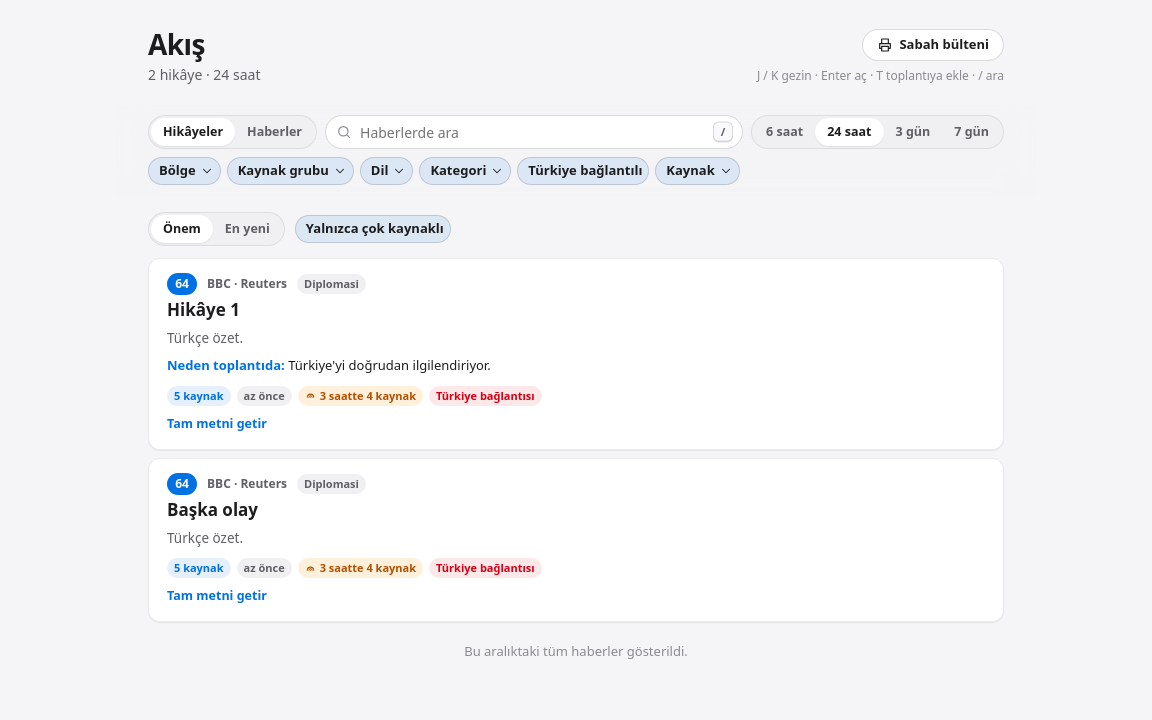
Test case: Story detail › merges another story into this one
Click the button "Hikâye 1" at (203, 311), box [167, 299, 240, 322]
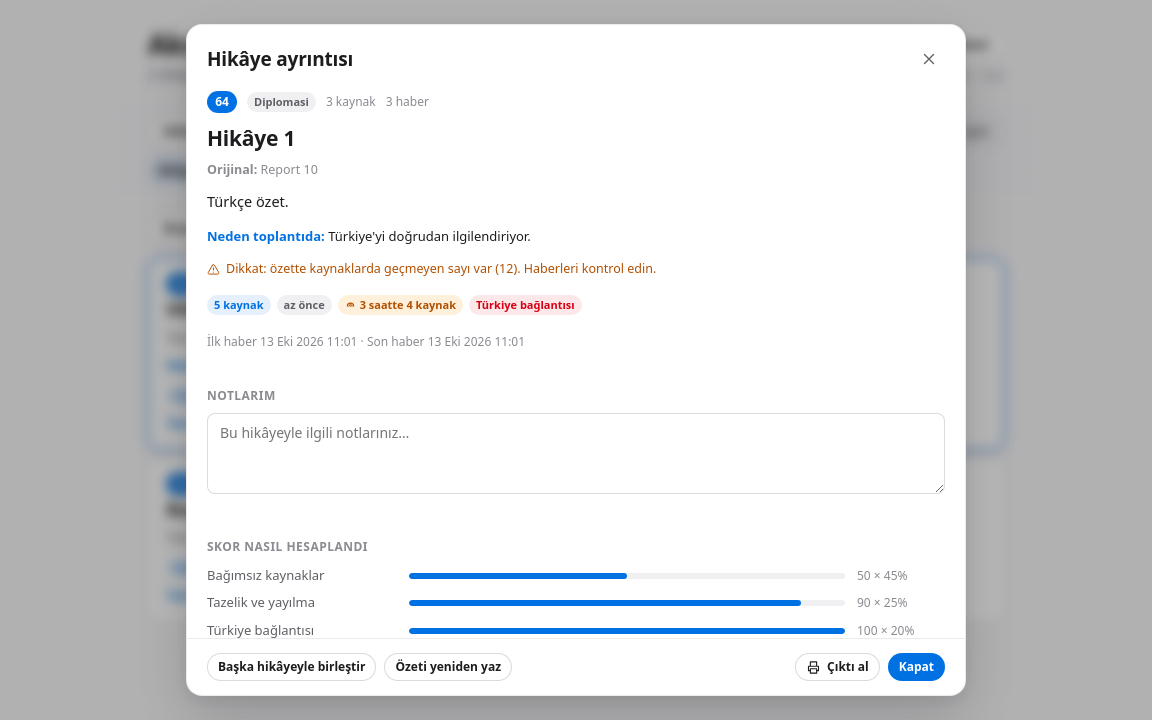
Click the button "Başka hikâyeyle birleştir" at (292, 667), box [207, 653, 376, 681]
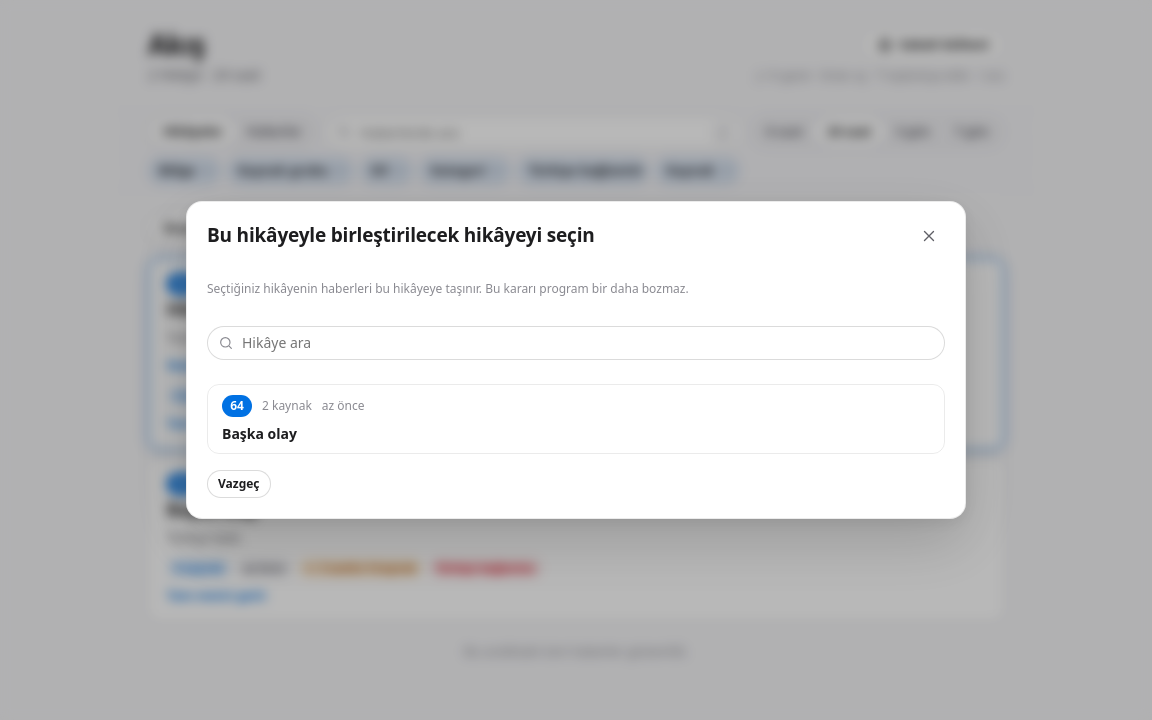
Click the button "64 2 kaynak az önce Başka olay" at (287, 405), box [208, 384, 944, 453]
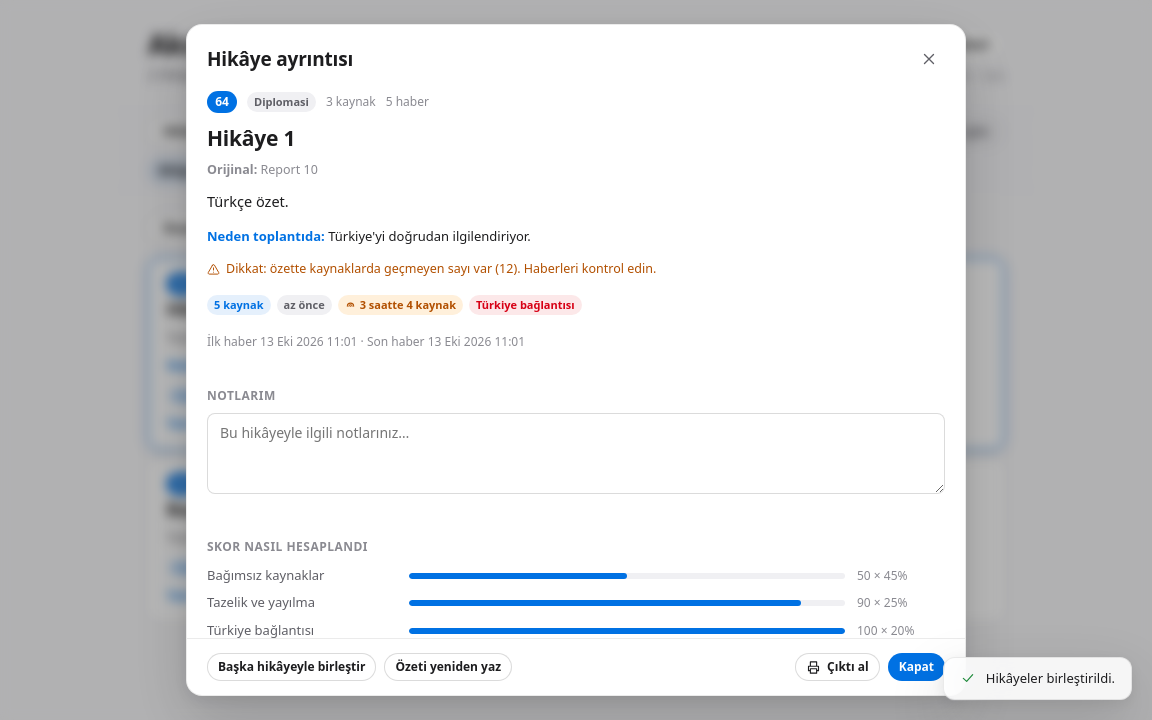
expect the text "Hikâyeler birleştirildi." is shown: met, box [986, 668, 1115, 688]
